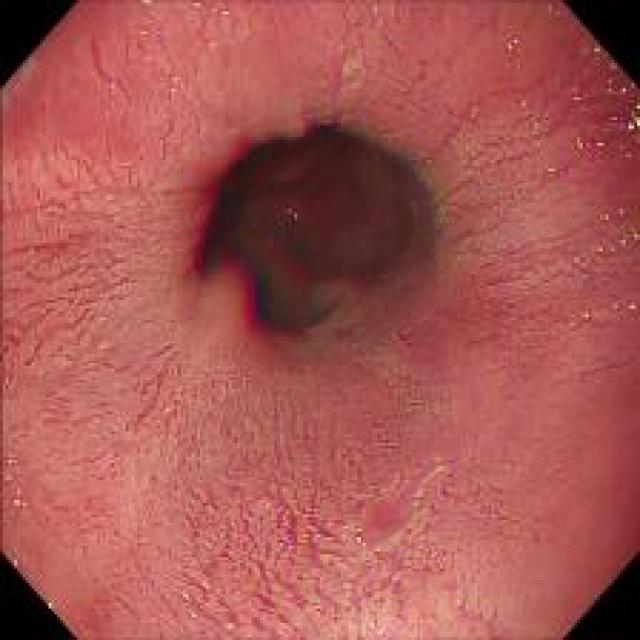bubbles: (1, 455, 21, 484), (9, 494, 30, 509)
color misalignment: (604, 60, 638, 145), (574, 136, 608, 154), (585, 40, 602, 68), (281, 199, 301, 222)
contrast: (228, 141, 422, 326)
